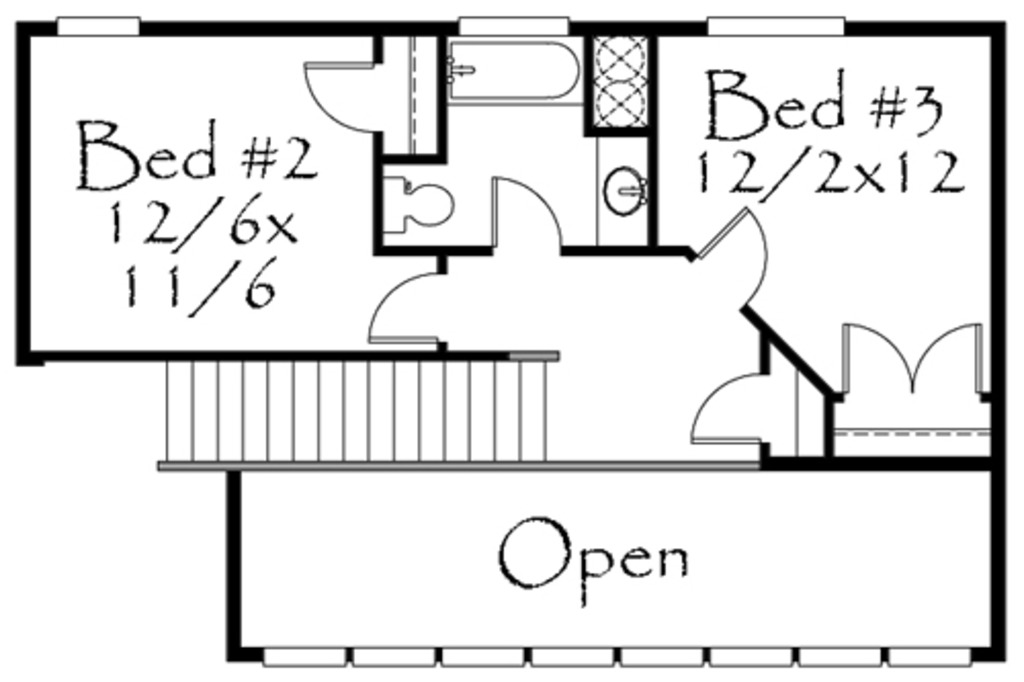door: (818, 312, 986, 399), (687, 196, 773, 308), (354, 259, 456, 352), (479, 159, 566, 254), (678, 354, 765, 447), (297, 58, 389, 136)
large_sink: (381, 170, 468, 238)
small_sink: (595, 144, 656, 240)
stairs: (152, 345, 565, 475)
tub: (441, 36, 585, 111)
window: (701, 11, 851, 41), (452, 8, 576, 38), (259, 641, 352, 673), (529, 638, 618, 669), (443, 641, 527, 671), (888, 638, 974, 667), (707, 642, 794, 670), (796, 642, 885, 667), (353, 646, 433, 670), (57, 13, 140, 35), (623, 645, 705, 667)
